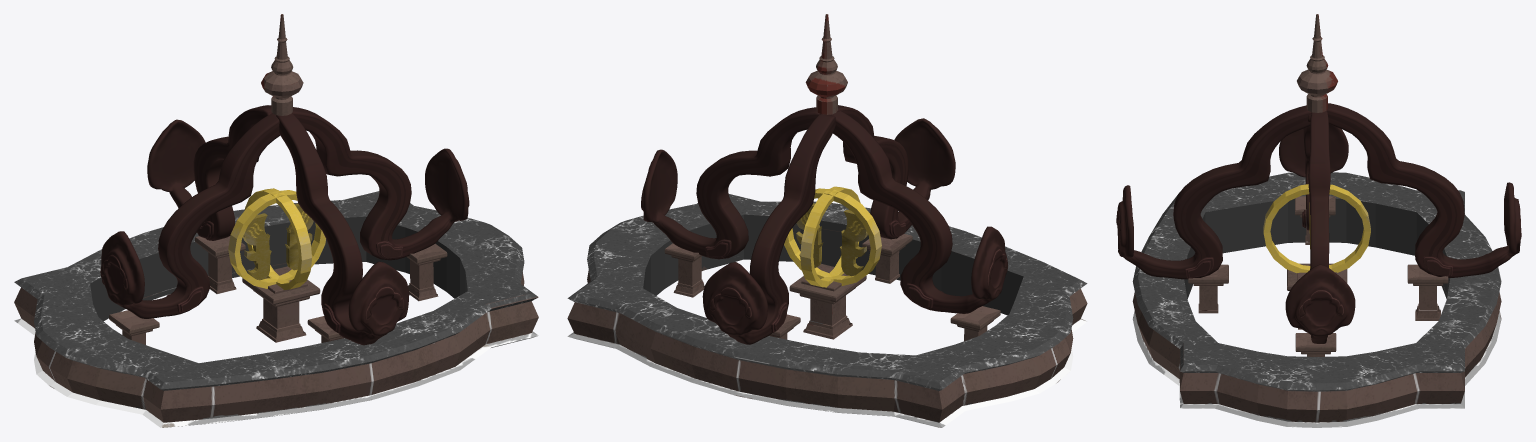
File: jianzhu.obj
3 renders of one model, left to right at view 1: azimuth 30°, elevation 25°; view 2: azimuth 150°, elevation 25°; view 3: azimuth 270°, elevation 25°, orthographic. The views are drawn at different scales.
Parts seen in each view (by area): view 1: body_Untitled.001, 1.001_Untitled.005, 1_Untitled, 1.002_Untitled.006, 1.003_Untitled.007, qiu_Untitled.004; view 2: body_Untitled.001, 1.003_Untitled.007, 1.001_Untitled.005, 1.002_Untitled.006, 1_Untitled, qiu_Untitled.004; view 3: body_Untitled.001, 1.003_Untitled.007, 1_Untitled, 1.002_Untitled.006, qiu_Untitled.004, 1.001_Untitled.005.
Part boxes in pixels (box(x1,y1,x2,y2)): body_Untitled.001: box(14, 14, 538, 427); 1.001_Untitled.005: box(100, 113, 280, 318); 1_Untitled: box(276, 113, 409, 345); 1.002_Untitled.006: box(292, 107, 469, 260); 1.003_Untitled.007: box(147, 105, 271, 240); qiu_Untitled.004: box(228, 188, 325, 289); body_Untitled.001: box(567, 14, 1087, 427); 1.003_Untitled.007: box(702, 114, 835, 344); 1.001_Untitled.005: box(831, 111, 1007, 313); 1.002_Untitled.006: box(641, 107, 819, 259); 1_Untitled: box(836, 105, 955, 239); qiu_Untitled.004: box(784, 186, 881, 287); body_Untitled.001: box(1132, 14, 1501, 427); 1.003_Untitled.007: box(1327, 103, 1521, 277); 1_Untitled: box(1116, 105, 1311, 279); 1.002_Untitled.006: box(1285, 110, 1355, 343); qiu_Untitled.004: box(1263, 184, 1370, 273); 1.001_Untitled.005: box(1279, 114, 1348, 230).
Size of the model in its own units: 9.86 by 6.51 by 7.75.
3 materials, 3 textured.
